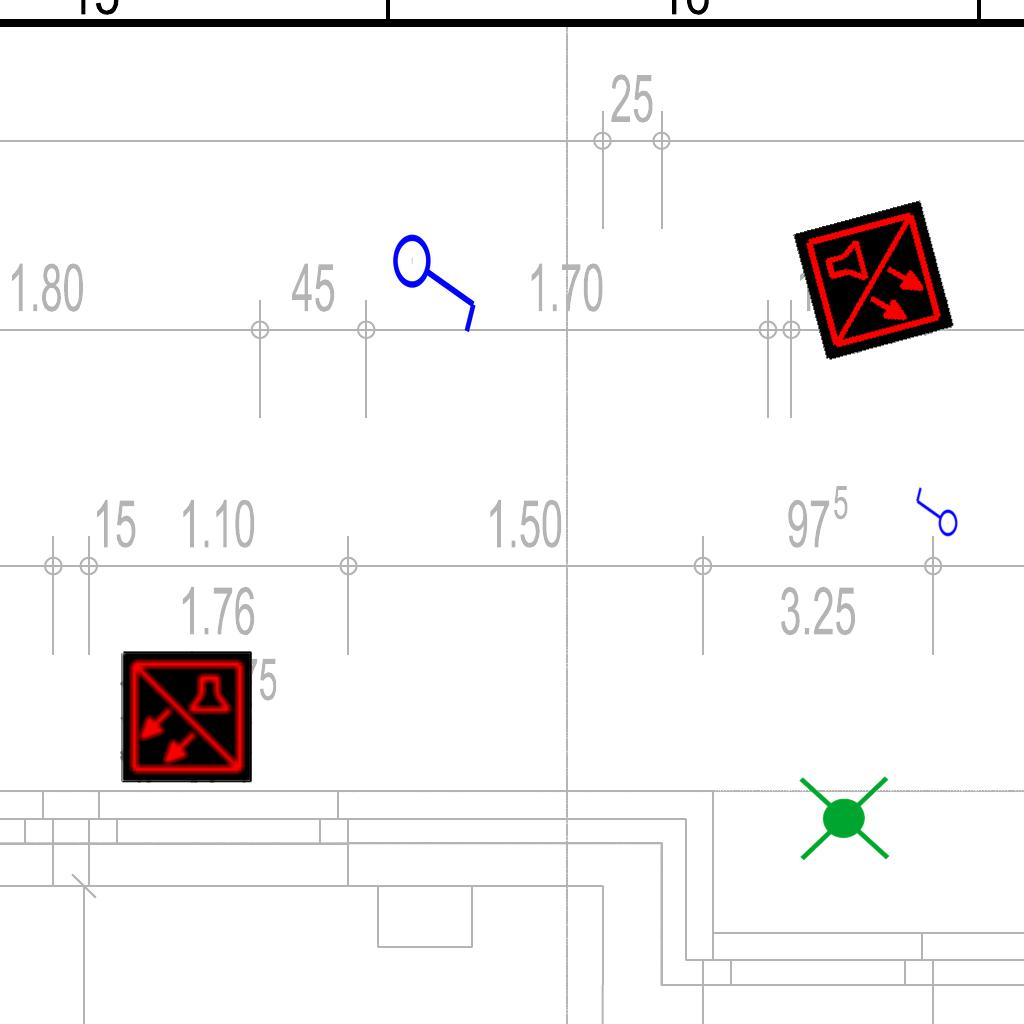Ausschalter: (390, 223, 486, 335), (911, 486, 959, 542)
Notlichtbaustein_in_Allgemeinbeleuchtug_engebaut_Einbau_(1UG_und_2UG_Aufbauvaria: (794, 768, 894, 871)
OKW_Multisensormelder_(Kombination_optischer_Rauch-Kahlenmonoxid_Waerme-Melder): (793, 200, 955, 362), (120, 651, 252, 783)
